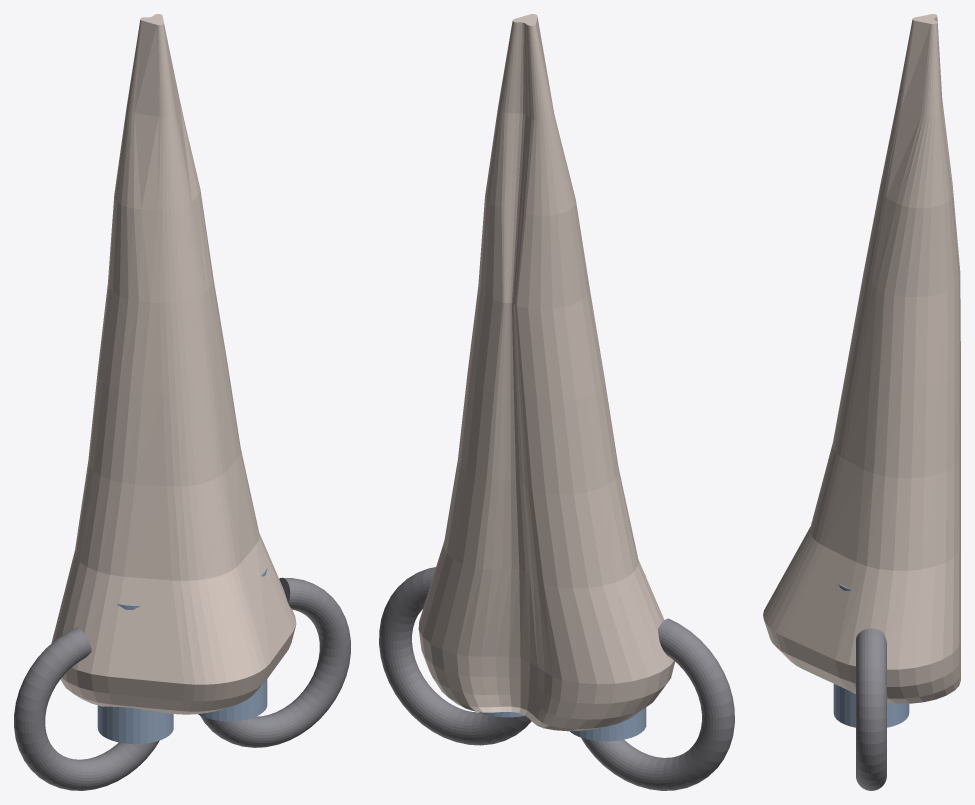
File: candidate_low_pain.glb
The picture shows the model from 3 angles, left to right: view 1: azimuth 30°, elevation 25°; view 2: azimuth 150°, elevation 25°; view 3: azimuth 270°, elevation 25°; orthographic projection. The views are drawn at different scales.
Parts seen in each view (by area): view 1: body, frame_left, frame_right, plug_left, plug_right; view 2: body, frame_left, frame_right, plug_left; view 3: body, frame_right, plug_right.
Part boxes in pixels (bbox=[...]): body: bbox=[51, 14, 296, 714]; frame_left: bbox=[14, 627, 159, 790]; frame_right: bbox=[200, 577, 350, 747]; plug_left: bbox=[97, 604, 173, 743]; plug_right: bbox=[198, 568, 267, 721]; body: bbox=[418, 14, 674, 731]; frame_left: bbox=[581, 618, 734, 790]; frame_right: bbox=[379, 567, 531, 745]; plug_left: bbox=[570, 574, 646, 741]; body: bbox=[763, 14, 960, 703]; frame_right: bbox=[856, 628, 886, 790]; plug_right: bbox=[833, 584, 909, 727].
Size of the model in its own units: 30.28 by 63.11 by 15.7.
